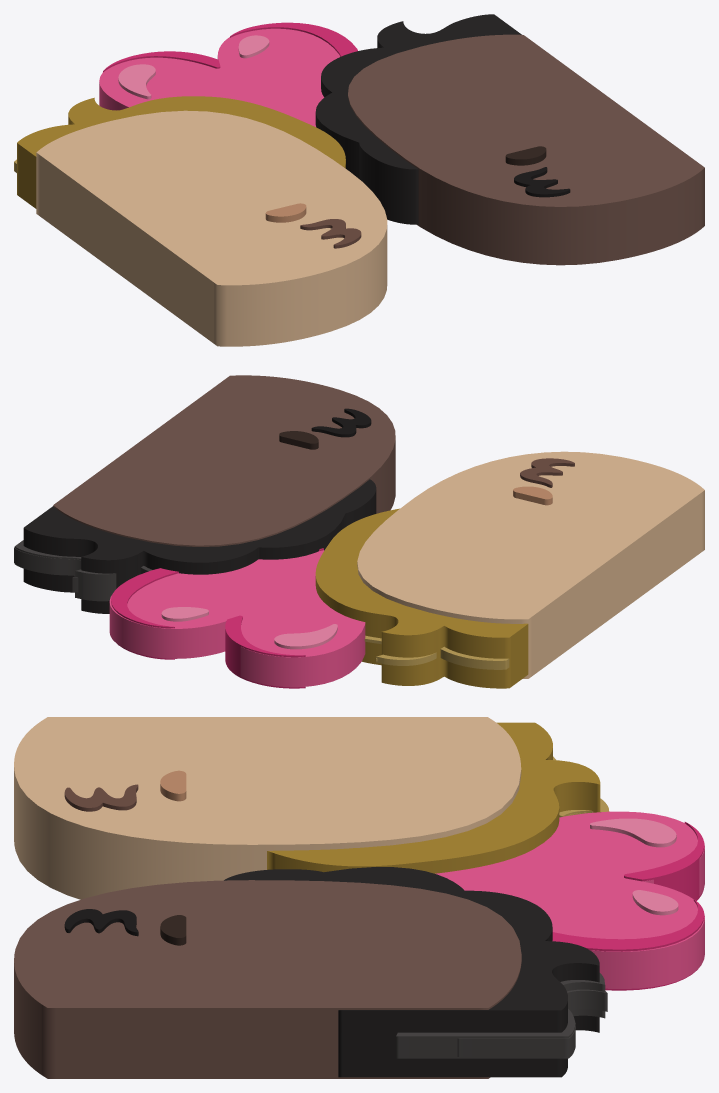
The model's file is emoji_u1f9d1_1f3fc_200d_2764_200d_1f48b_200d_1f9d1_1f3ff.glb.
3 renders of one model, top to bottom at view 1: azimuth 30°, elevation 25°; view 2: azimuth 150°, elevation 25°; view 3: azimuth 270°, elevation 25°, orthographic. The views are drawn at different scales.
Visible parts, largest first — view 1: emoji_u1f9d1_1f3fc_200d_2764_200d_1f48b_200d_1f9d1_1f3ff; view 2: emoji_u1f9d1_1f3fc_200d_2764_200d_1f48b_200d_1f9d1_1f3ff; view 3: emoji_u1f9d1_1f3fc_200d_2764_200d_1f48b_200d_1f9d1_1f3ff.
Part boxes in pixels (x1=…): emoji_u1f9d1_1f3fc_200d_2764_200d_1f48b_200d_1f9d1_1f3ff: x1=14, y1=14, x2=704, y2=346; emoji_u1f9d1_1f3fc_200d_2764_200d_1f48b_200d_1f9d1_1f3ff: x1=14, y1=375, x2=704, y2=688; emoji_u1f9d1_1f3fc_200d_2764_200d_1f48b_200d_1f9d1_1f3ff: x1=14, y1=717, x2=704, y2=1078.
Bounding box in the file's own units: 0.0338 × 0.0048 × 0.0336.
